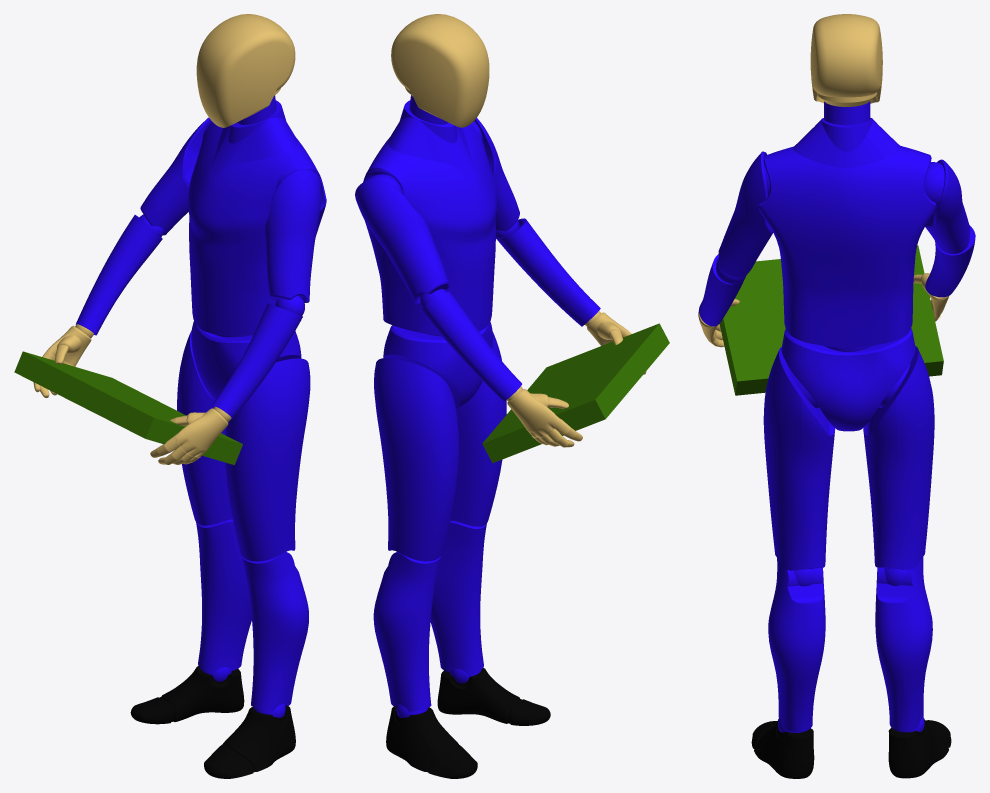
File: carryingPoseDraco.glb
The picture shows the model from 3 angles, left to right: view 1: azimuth 30°, elevation 25°; view 2: azimuth 150°, elevation 25°; view 3: azimuth 270°, elevation 25°; orthographic projection. The views are drawn at different scales.
Visible parts, largest first — view 1: Object_4, Object_8, Object_5, Object_2, Object_3, Object_7, Object_13, Object_14, Object_6, Object_10, Object_9, Object_12; view 2: Object_4, Object_5, Object_8, Object_3, Object_2, Object_6, Object_14, Object_13, Object_7, Object_9, Object_10, Object_11; view 3: Object_5, Object_4, Object_8, Object_3, Object_2, Object_7, Object_6, Object_14, Object_13.
Boxes of the visible parts, left/top/right/bottom form: Object_4: left=75, top=215, right=308, bottom=717; Object_8: left=191, top=303, right=310, bottom=561; Object_5: left=188, top=96, right=326, bottom=337; Object_2: left=196, top=14, right=295, bottom=127; Object_3: left=14, top=351, right=242, bottom=465; Object_7: left=264, top=169, right=320, bottom=315; Object_13: left=204, top=705, right=295, bottom=778; Object_14: left=130, top=666, right=244, bottom=724; Object_6: left=138, top=117, right=211, bottom=237; Object_10: left=170, top=406, right=231, bottom=456; Object_9: left=42, top=324, right=93, bottom=366; Object_12: left=150, top=436, right=200, bottom=464; Object_4: left=373, top=291, right=521, bottom=717; Object_5: left=363, top=95, right=496, bottom=336; Object_8: left=383, top=218, right=600, bottom=526; Object_3: left=482, top=323, right=669, bottom=463; Object_2: left=391, top=14, right=489, bottom=127; Object_6: left=355, top=174, right=448, bottom=307; Object_14: left=386, top=705, right=477, bottom=778; Object_13: left=437, top=668, right=550, bottom=725; Object_7: left=472, top=118, right=519, bottom=239; Object_9: left=506, top=386, right=568, bottom=437; Object_10: left=585, top=311, right=631, bottom=345; Object_11: left=532, top=419, right=582, bottom=447; Object_5: left=758, top=101, right=936, bottom=351; Object_4: left=768, top=225, right=975, bottom=732; Object_8: left=699, top=254, right=915, bottom=586; Object_3: left=719, top=245, right=943, bottom=395; Object_2: left=810, top=14, right=882, bottom=106; Object_7: left=716, top=151, right=773, bottom=283; Object_6: left=924, top=159, right=970, bottom=253; Object_14: left=888, top=717, right=951, bottom=778; Object_13: left=751, top=718, right=814, bottom=778.
Bounding box in the file's own units: 0.6531 × 1.75 × 0.5853.
